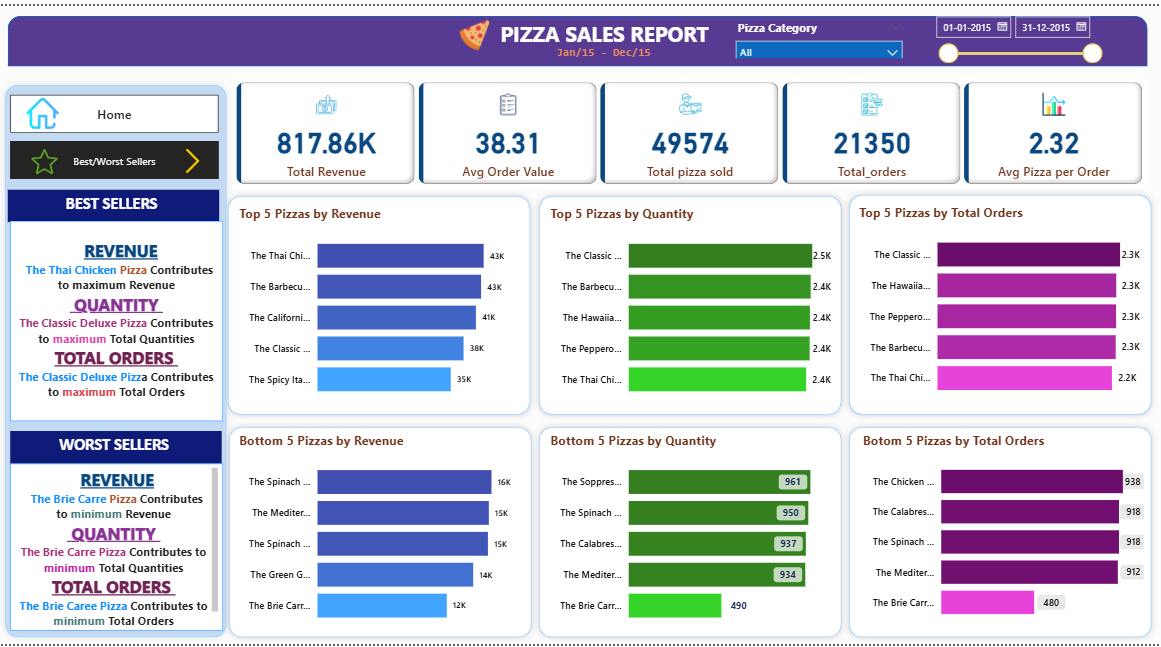

The page's visual inventory and layout, read from the dashboard file:
{"tool":"powerbi","page":{"name":"Best/Worst Sellers","canvas":[1500,820],"ordinal":1},"visuals":[{"type":"cardVisual","fields":{"Data":["pizza_sales.Total Revenue","pizza_sales.Avg Order Value","pizza_sales.Total pizza sold","pizza_sales.Total_orders","pizza_sales.Avg Pizza per Order"]},"box":[300.7,93.3,1177.1,141.5],"z":0},{"type":"shape","box":[11.2,12.5,1466.2,65],"z":1000},{"type":"textbox","box":[623.3,13.3,310,50],"z":2000},{"type":"textbox","box":[691.7,45,173.3,36.7],"z":3000},{"type":"image","box":[576.7,13.3,68.3,50],"z":4000},{"type":"shape","box":[286.2,236.4,405.2,297.5],"z":5000},{"type":"shape","box":[0,93.3,300.7,726.8],"z":6000},{"type":"shape","box":[686.6,566,11.3,254.1],"z":7000},{"type":"textbox","box":[11.3,236.4,271.8,41.8],"z":8000},{"type":"textbox","box":[14.5,588.6,273.4,215.5],"z":9000},{"type":"textbox","box":[14.5,276.6,273.4,257.3],"z":10000},{"type":"textbox","box":[14.5,546.7,271.8,41.8],"z":11000},{"type":"slicer","fields":{"Values":["pizza_sales.pizza_category"]},"box":[937.5,12.9,234.8,54.7],"z":12000},{"type":"slicer","fields":{"Values":["pizza_sales.order_date"]},"box":[1193.2,3.2,234.8,74],"z":13000},{"type":"shape","box":[1085.4,234.8,405.2,299.1],"z":14000},{"type":"shape","box":[287.8,533.9,405.2,286.2],"z":15000},{"type":"shape","box":[686.6,236.4,405.2,297.5],"z":16000},{"type":"shape","box":[686.6,533.9,405.2,286.2],"z":17000},{"type":"shape","box":[1085.4,533.9,405.2,286.2],"z":18000},{"type":"barChart","title":"Top 5 Pizzas by Revenue","fields":{"Category":["pizza_sales.pizza_name"],"Y":["pizza_sales.Total Revenue"]},"box":[303.9,255.7,371.5,262.1],"z":19000},{"type":"barChart","title":"Bottom 5 Pizzas by Revenue","fields":{"Category":["pizza_sales.pizza_name"],"Y":["pizza_sales.Total Revenue"]},"box":[303.9,546.7,371.5,262.1],"z":20000},{"type":"barChart","title":"Top 5 Pizzas by Quantity","fields":{"Category":["pizza_sales.pizza_name"],"Y":["pizza_sales.Total pizza sold"]},"box":[704.3,255.7,371.5,262.1],"z":21000},{"type":"barChart","title":"Bottom 5 Pizzas by Quantity","fields":{"Category":["pizza_sales.pizza_name"],"Y":["pizza_sales.Total pizza sold"]},"box":[704.3,546.7,371.5,262.1],"z":22000},{"type":"barChart","title":"Top 5 Pizzas by Total Orders","fields":{"Category":["pizza_sales.pizza_name"],"Y":["pizza_sales.Total_orders"]},"box":[1101.5,254.1,371.5,262.1],"z":23000},{"type":"barChart","title":"Botom  5 Pizzas by Total Orders","fields":{"Category":["pizza_sales.pizza_name"],"Y":["pizza_sales.Total_orders"]},"box":[1106.4,546.7,371.5,257.3],"z":24000},{"type":"pageNavigator","box":[14.5,173.7,268.5,49.9],"z":25000},{"type":"pageNavigator","box":[14.5,114.2,268.5,49.9],"z":26000},{"type":"image","box":[25.7,112.6,61.1,51.5],"z":27000},{"type":"image","box":[215.5,178.5,67.5,41.8],"z":28000},{"type":"image","box":[25.7,178.5,65.9,43.4],"z":29000}]}

Visuals, with their boxes in screenshot pixels (x1, y1, x2, y2), scaled from the page's 1500x820 canvas onto the 1161x647 screenshot:
cardVisual - pizza_sales.Total Revenue x pizza_sales.Avg Order Value: crop(233, 74, 1144, 185)
shape: crop(9, 10, 1144, 61)
textbox: crop(482, 10, 722, 50)
textbox: crop(535, 36, 670, 64)
image: crop(446, 10, 499, 50)
shape: crop(222, 187, 535, 421)
shape: crop(0, 74, 233, 646)
shape: crop(531, 447, 540, 646)
textbox: crop(9, 187, 219, 220)
textbox: crop(11, 464, 223, 634)
textbox: crop(11, 218, 223, 421)
textbox: crop(11, 431, 222, 464)
slicer - pizza_sales.pizza_category: crop(726, 10, 907, 53)
slicer - pizza_sales.order_date: crop(924, 3, 1105, 61)
shape: crop(840, 185, 1154, 421)
shape: crop(223, 421, 536, 646)
shape: crop(531, 187, 845, 421)
shape: crop(531, 421, 845, 646)
shape: crop(840, 421, 1154, 646)
"Top 5 Pizzas by Revenue" barChart: crop(235, 202, 523, 409)
"Bottom 5 Pizzas by Revenue" barChart: crop(235, 431, 523, 638)
"Top 5 Pizzas by Quantity" barChart: crop(545, 202, 833, 409)
"Bottom 5 Pizzas by Quantity" barChart: crop(545, 431, 833, 638)
"Top 5 Pizzas by Total Orders" barChart: crop(853, 200, 1140, 407)
"Botom  5 Pizzas by Total Orders" barChart: crop(856, 431, 1144, 634)
pageNavigator: crop(11, 137, 219, 176)
pageNavigator: crop(11, 90, 219, 129)
image: crop(20, 89, 67, 129)
image: crop(167, 141, 219, 174)
image: crop(20, 141, 71, 175)
